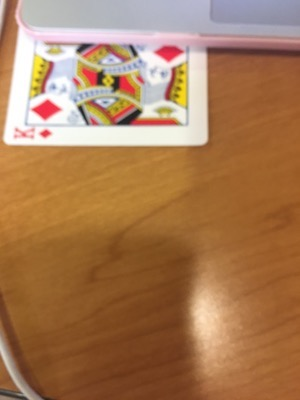KingOfDiamonds: (2, 21, 223, 152)
